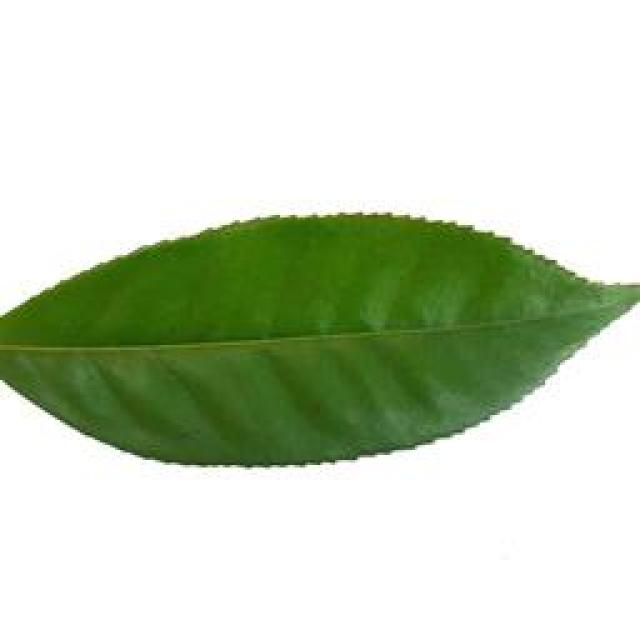Healthy: (7, 207, 640, 470)
